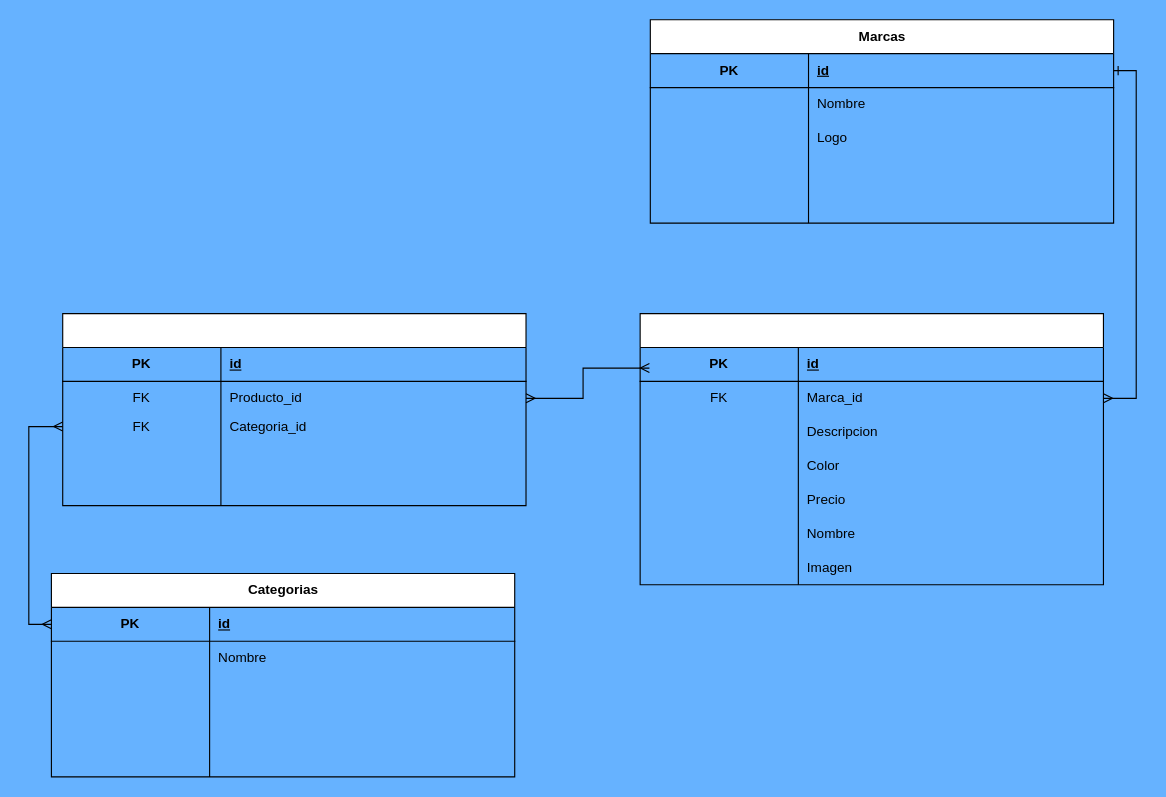
This 1166x797 diagram has some shape labels left out. Here are the shapes that lost their labels. From the top down, the box of each, then its label:
(62, 312, 526, 506): Categorias_productos
(639, 312, 1103, 585): Producto
